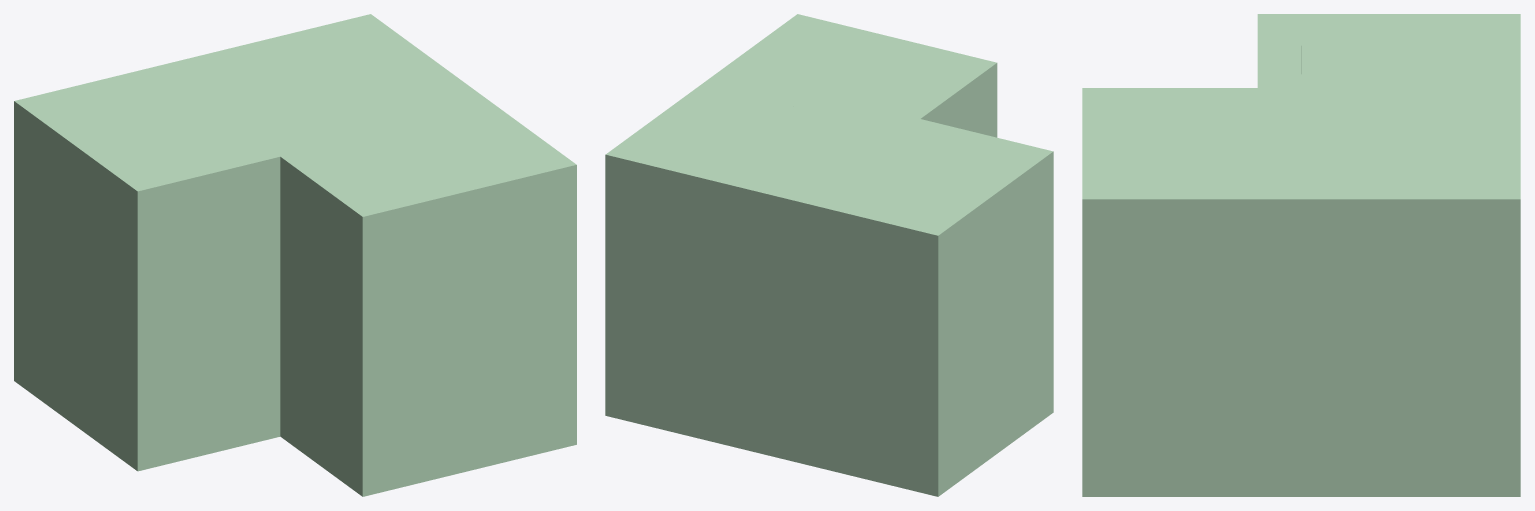
File: GroundConvex_meshCollider.fbx
3 views of the same model, side by side, from view 1: azimuth 30°, elevation 25°; view 2: azimuth 150°, elevation 25°; view 3: azimuth 270°, elevation 25° (orthographic). The views are drawn at different scales.
Parts seen in each view (by area): view 1: GroundConvex_meshCollider; view 2: GroundConvex_meshCollider; view 3: GroundConvex_meshCollider.
Boxes of the visible parts, x1,y1,x2,y2 form: GroundConvex_meshCollider: (14,14,576,496); GroundConvex_meshCollider: (605,14,1053,496); GroundConvex_meshCollider: (1082,14,1520,496).
Size of the model in its own units: 2 by 1.5 by 2.
